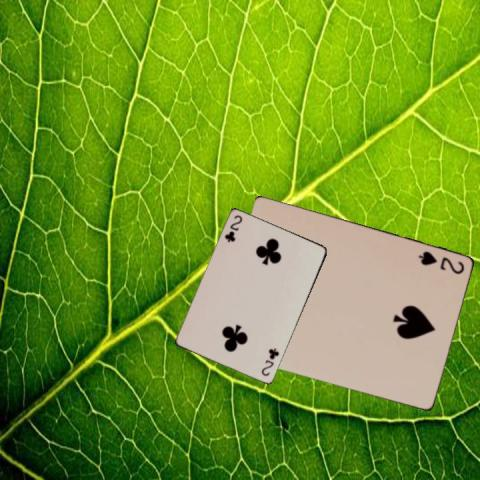2c: (258, 345, 280, 378), (222, 212, 244, 244)
2s: (415, 248, 466, 275)
